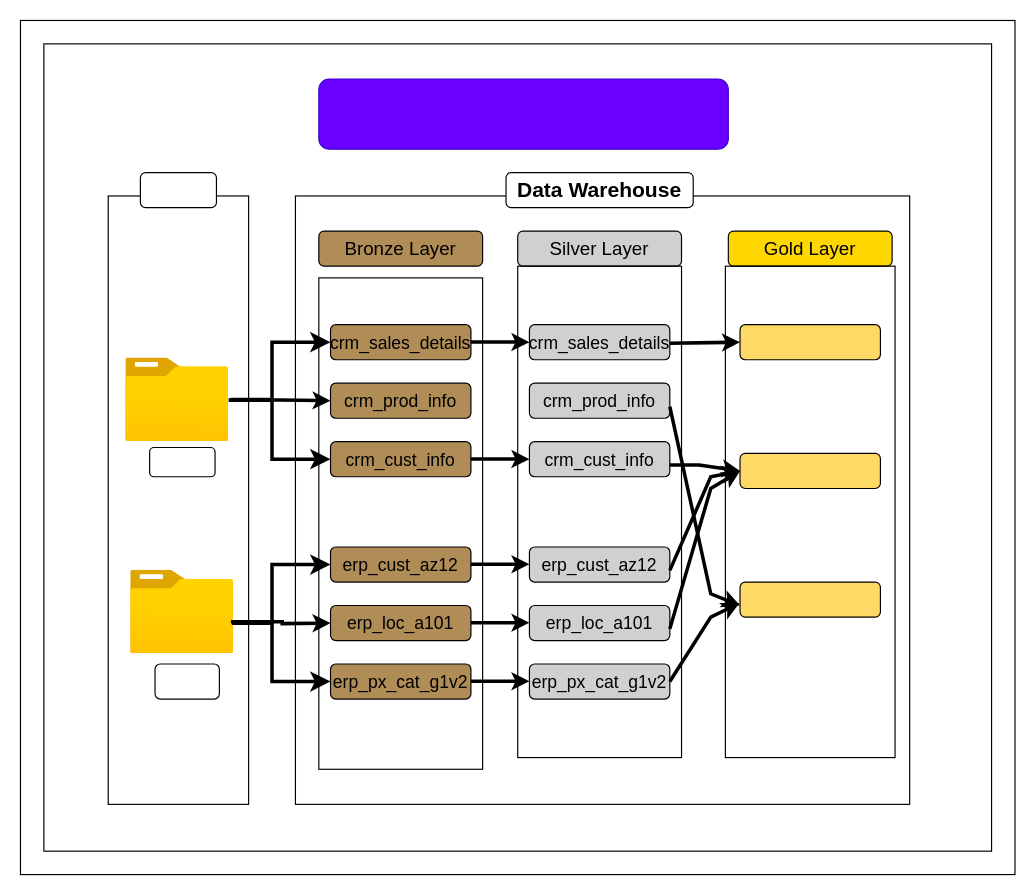
Some shapes in this 1035 by 895 pixel diagram are drawn without their labels. Here are the shapes that lost their labels. From the top down, the centre of each, then its label:
[523,113]: Data Flow Diagram
[177,189]: Sources
[809,342]: facts
[181,461]: CRM
[809,470]: customers
[809,599]: products
[186,681]: ERP
